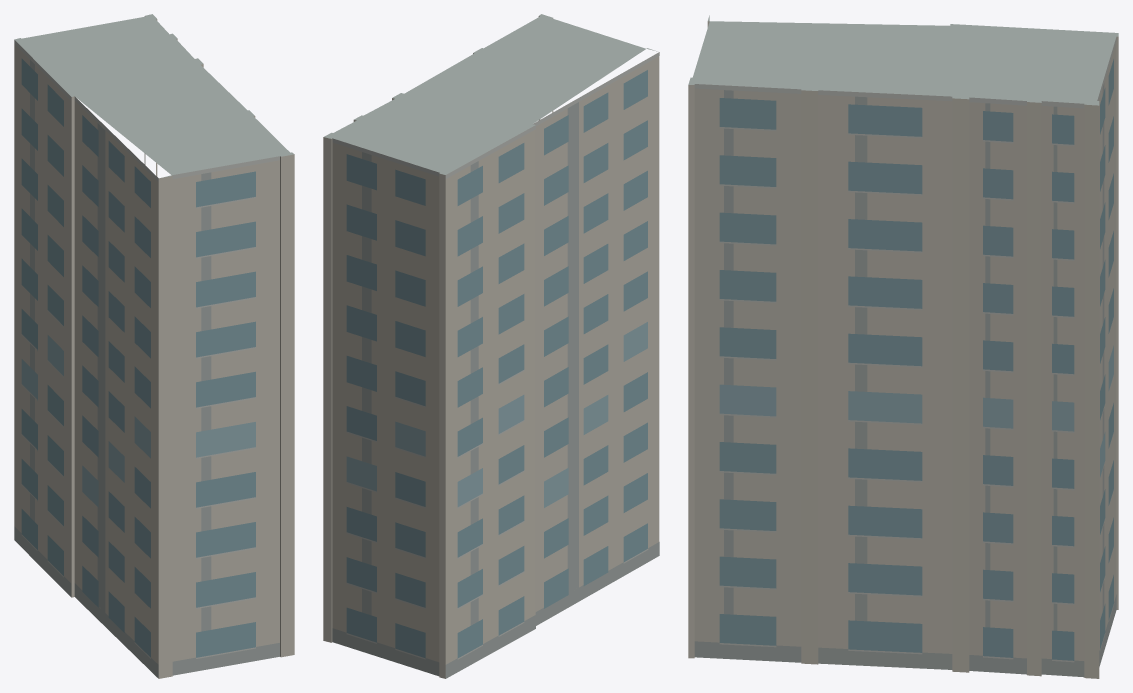
Rendered from survey-upis-32971707.glb.
3 renders of one model, left to right at view 1: azimuth 30°, elevation 25°; view 2: azimuth 150°, elevation 25°; view 3: azimuth 270°, elevation 25°, orthographic. The views are drawn at different scales.
Parts seen in each view (by area): view 1: survey-upis-32971707.tmp; view 2: survey-upis-32971707.tmp; view 3: survey-upis-32971707.tmp.
Part boxes in pixels (box(x1,y1,x2,y2)): survey-upis-32971707.tmp: box(14, 14, 294, 678); survey-upis-32971707.tmp: box(323, 14, 659, 678); survey-upis-32971707.tmp: box(688, 15, 1118, 678).
Bounding box in the file's own units: 10.21 × 29.8 × 20.27.
